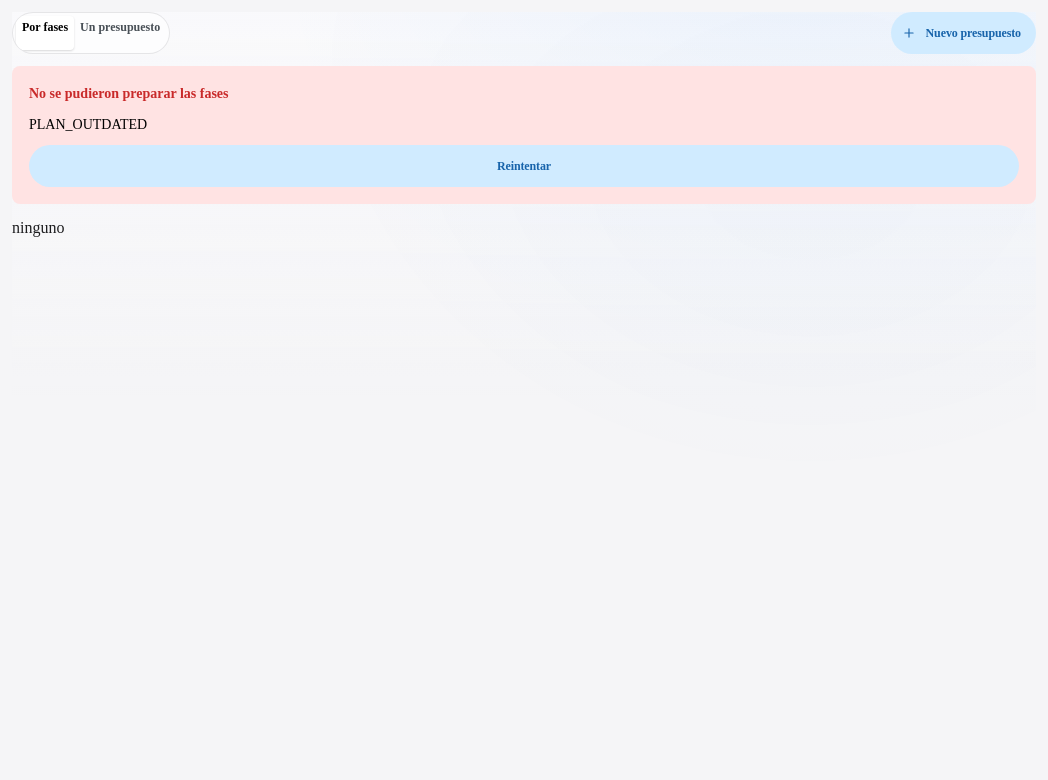
a failure preparing the phases is reported once and retried only on request
This screenshot has width=1048, height=780.
Check: the text "No se pudieron preparar las fases" is shown, box [29,83,228,105]
Click the button "Reintentar": [524, 166] box [29,145,1019,187]
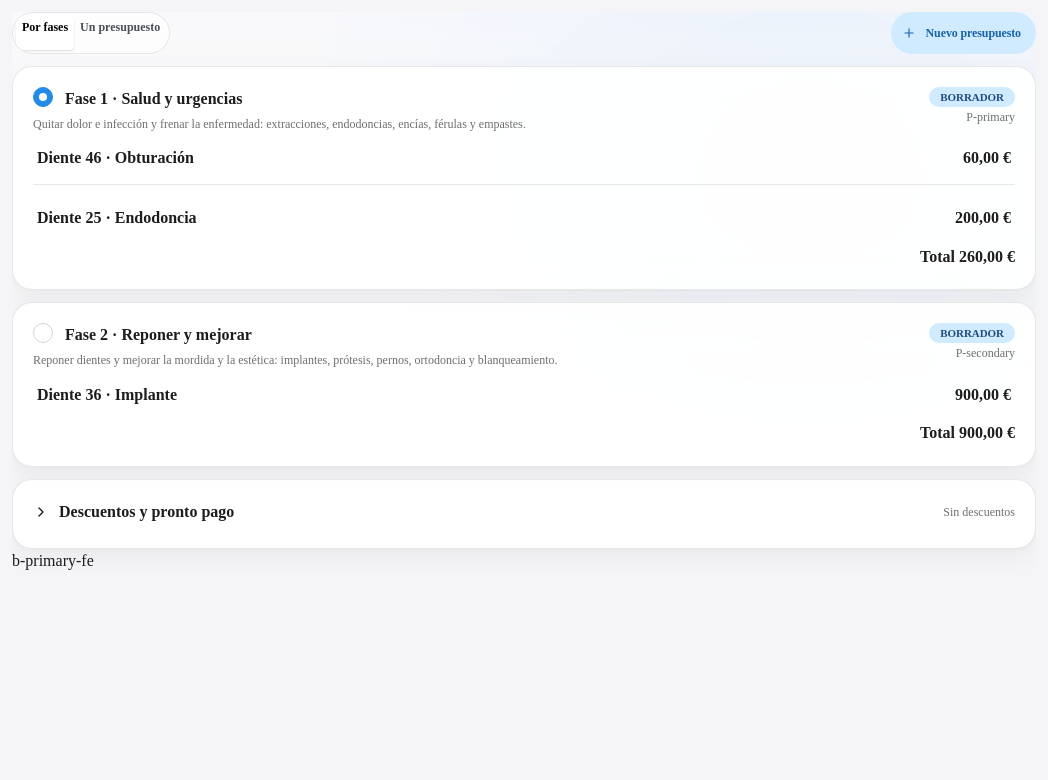
Check: the text "Fase 2 · Reponer y mejorar" is shown, box [65,323,252,348]
